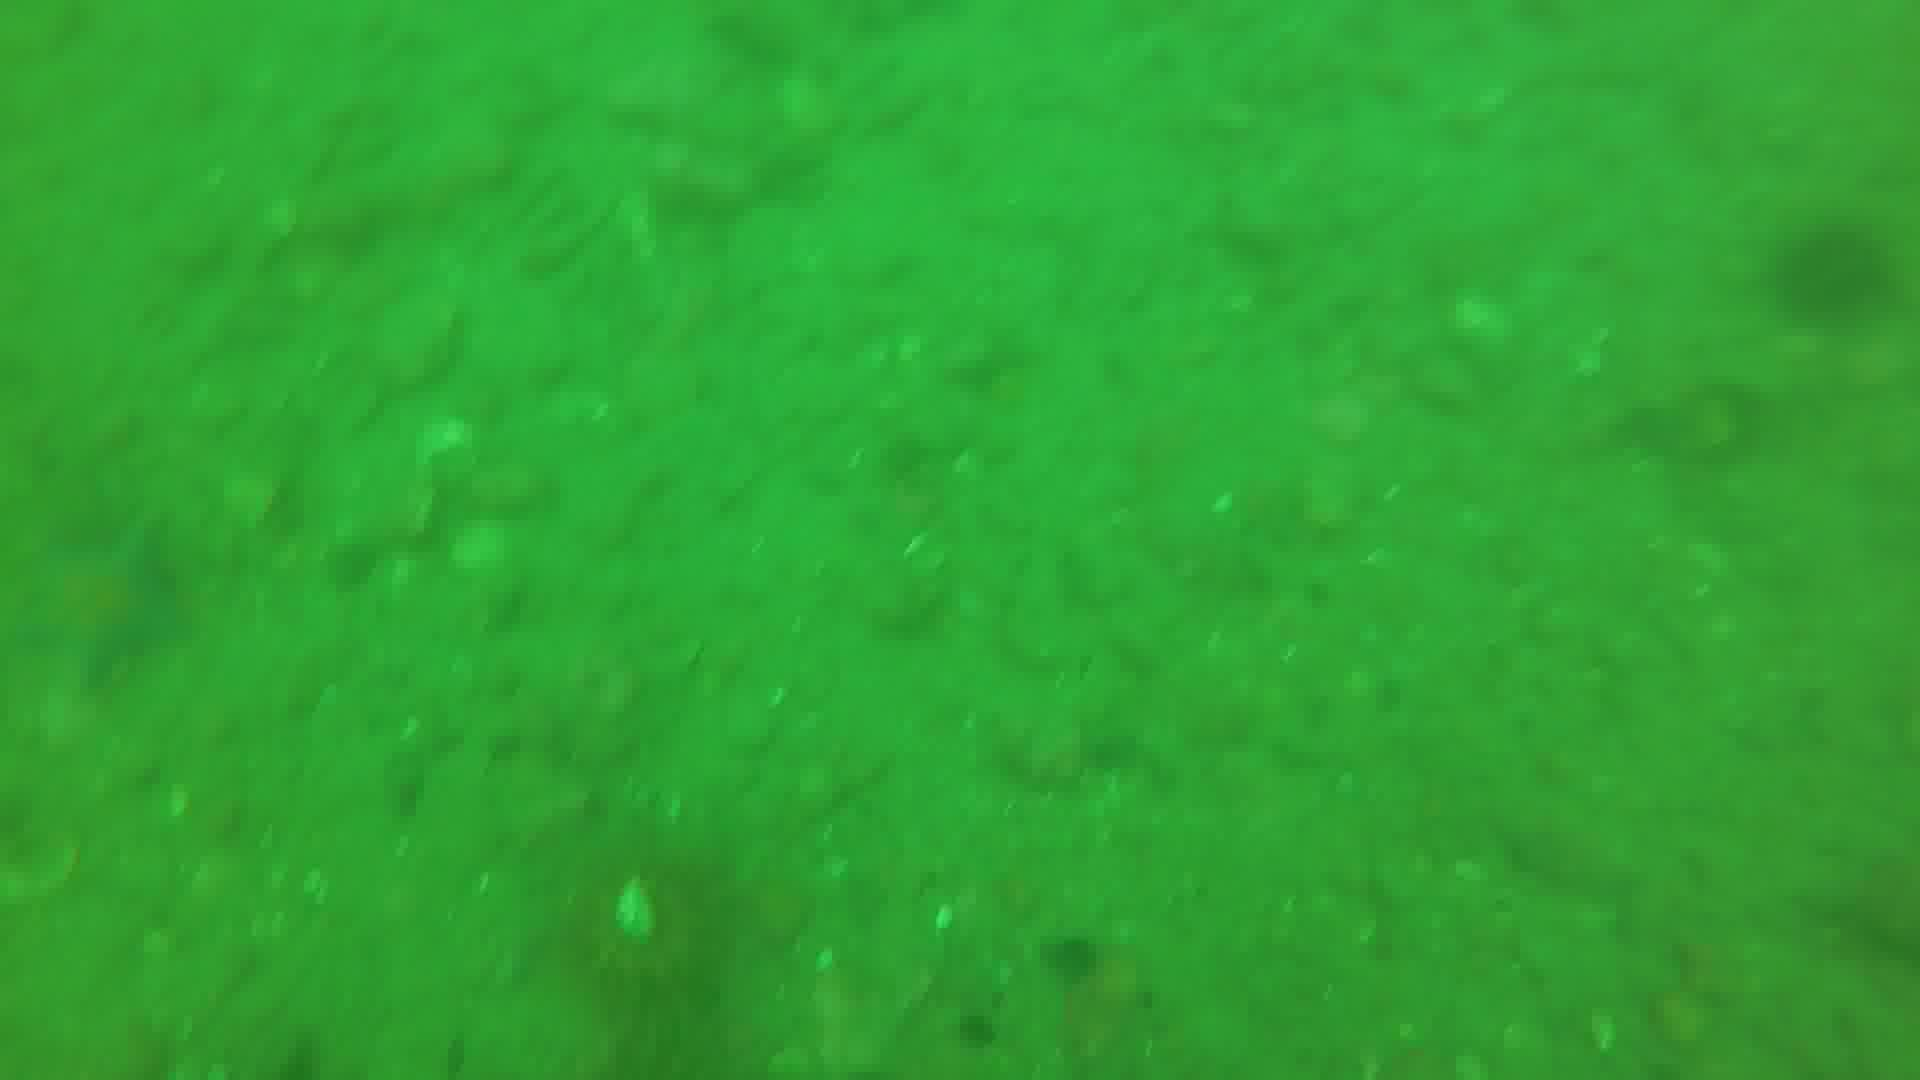echinus: (1782, 218, 1905, 326)
scallop: (409, 415, 479, 488), (458, 520, 524, 584), (615, 877, 661, 944)
starfish: (7, 512, 203, 704)
